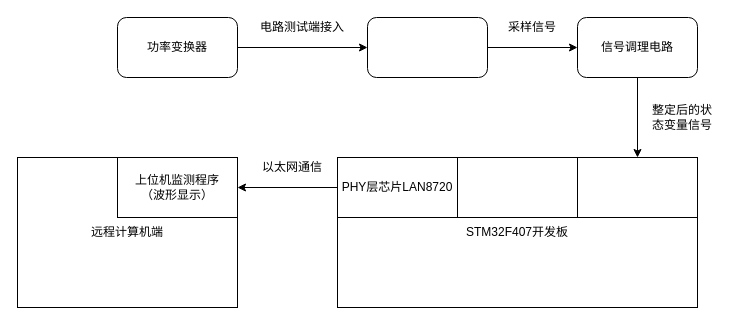
This 735x325 diagram has some shape labels left out. Each missing label, with the centre of its shape:
"ADC" goes at point 637,187.
"以太网MAC层接口" goes at point 517,187.
"信号采样电路" goes at point 427,47.
